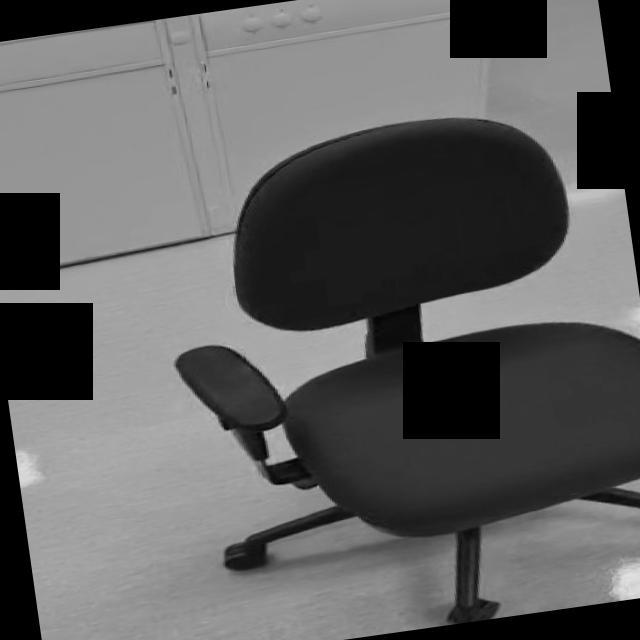chair: (146, 92, 640, 640)
